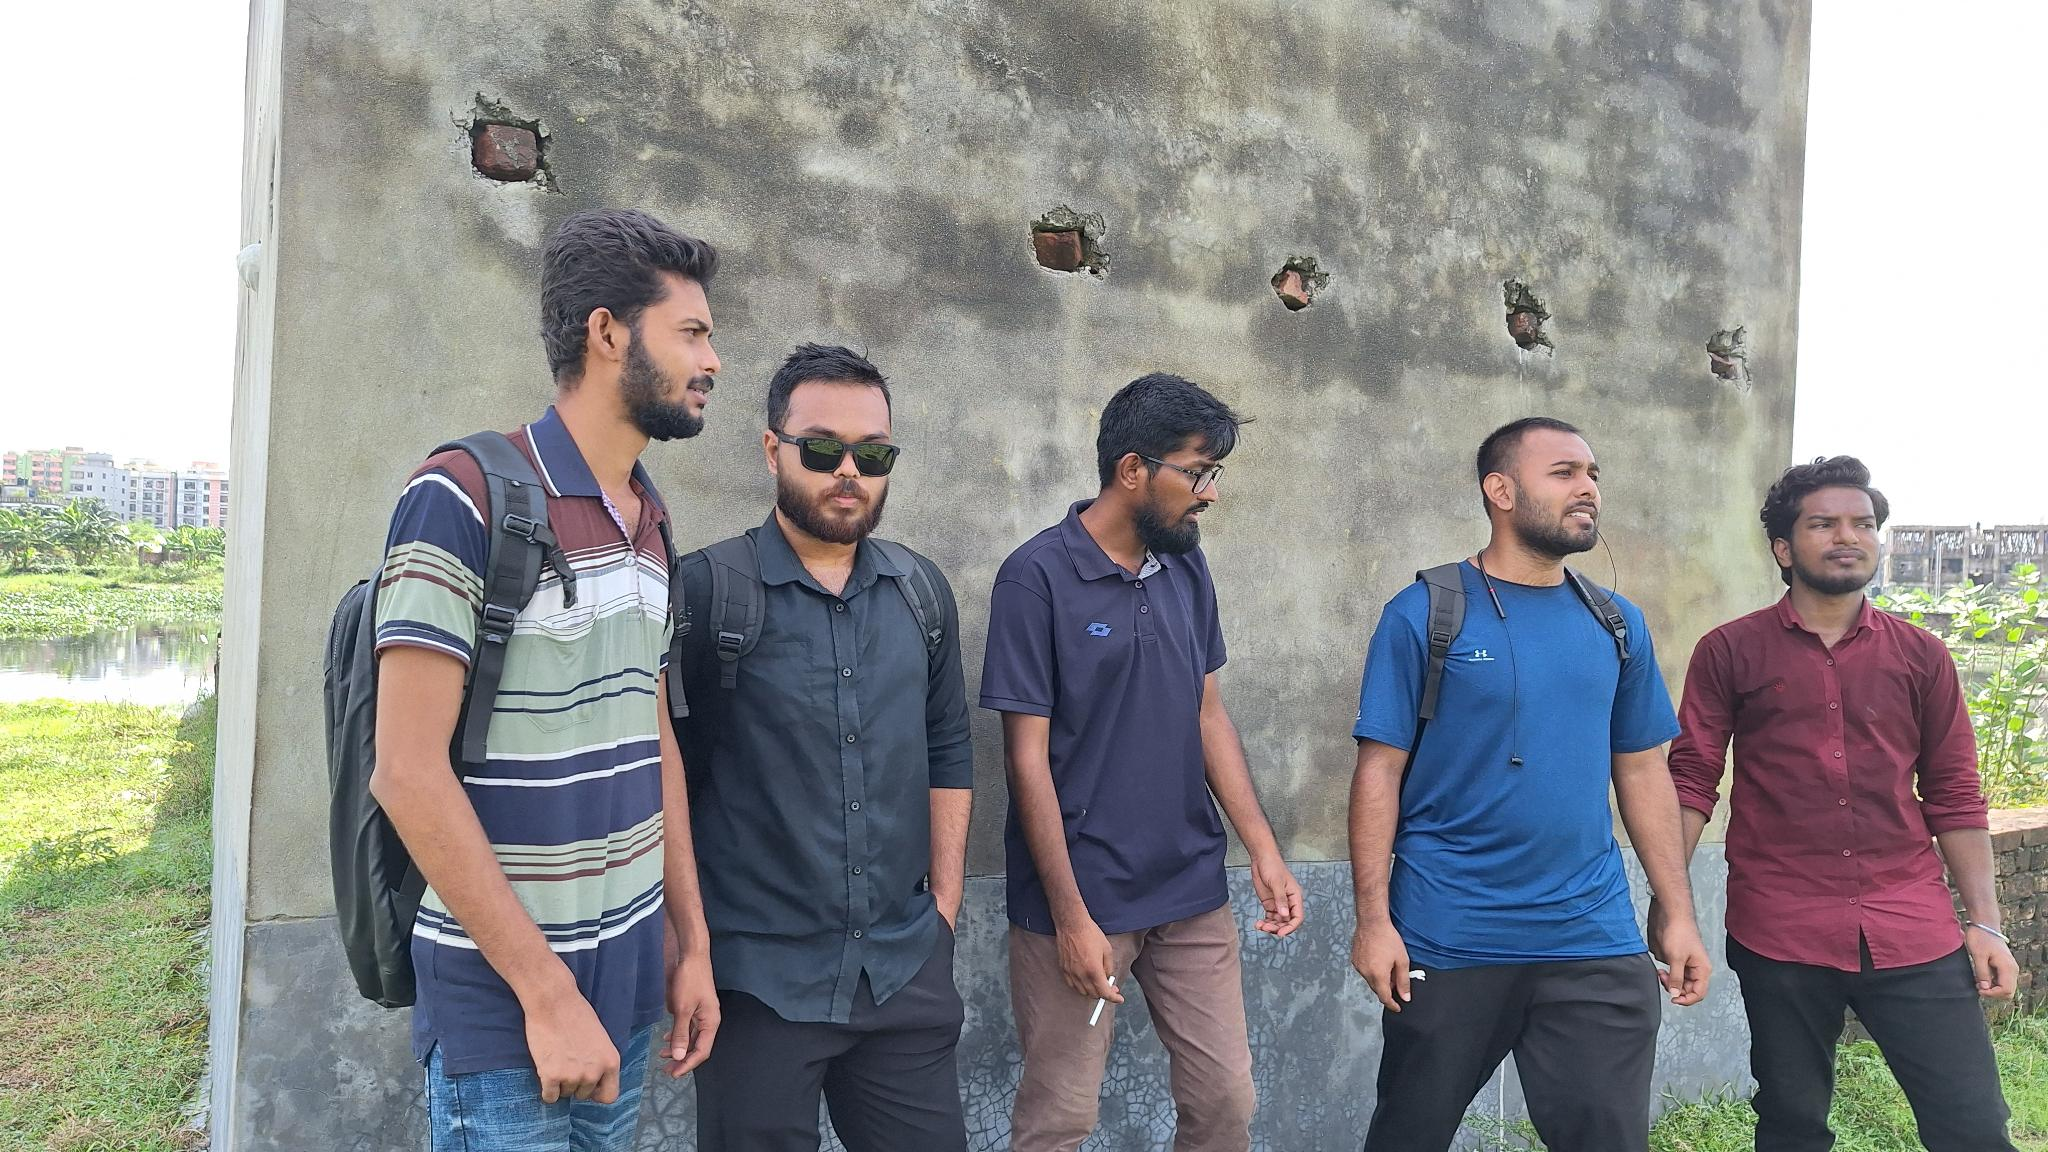cigarette: (1087, 973, 1117, 1028)
nonSmoker: (325, 210, 722, 1152), (1340, 412, 1709, 1152), (1650, 454, 2020, 1152), (654, 340, 972, 1152)
smoker: (979, 369, 1307, 1152)
